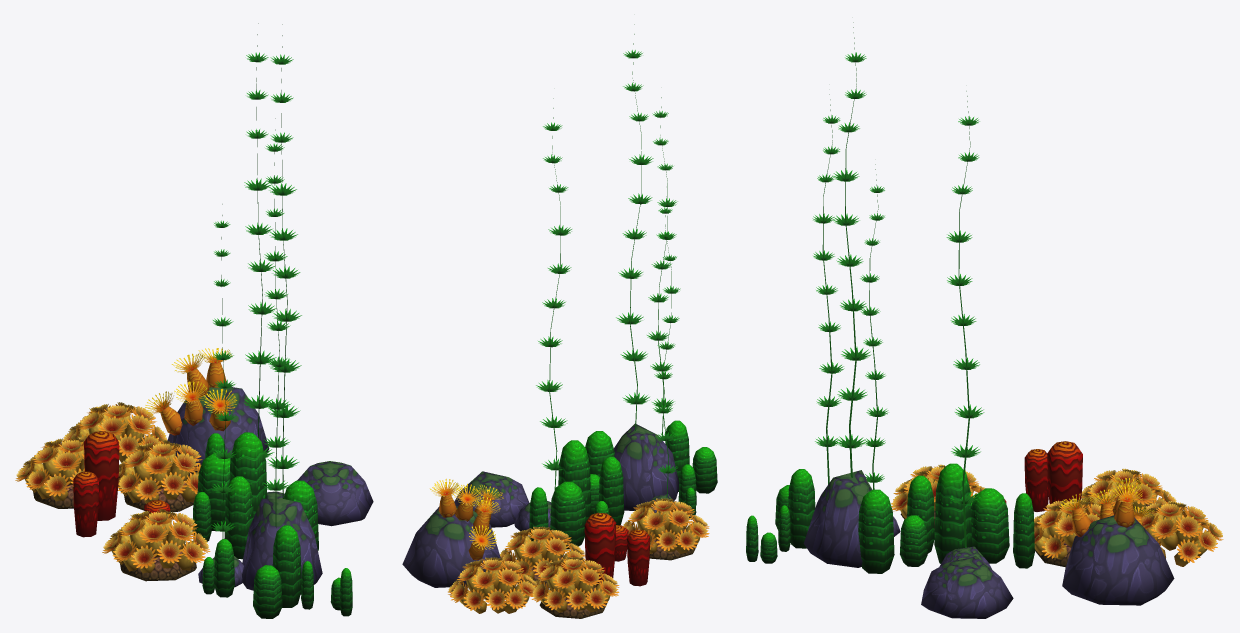
File: CoralSet_09.FBX
The picture shows the model from 3 angles, left to right: view 1: azimuth 30°, elevation 25°; view 2: azimuth 150°, elevation 25°; view 3: azimuth 270°, elevation 25°; orthographic projection. The views are drawn at different scales.
Visible parts, largest first — view 1: CoralSet_09, Line232, Line263, Line261, Line234, Line262, Sphere059, Plane340, Plane339, Plane341, Sphere057, Plane342 (+7 smaller); view 2: CoralSet_09, Line232, Line234, Line262, Line263, Line261, Plane340, Plane339, Sphere059, Plane341, Sphere057, Plane342 (+5 smaller); view 3: CoralSet_09, Line232, Line234, Plane340, Plane339, Line261, Line262, Sphere059, Plane341, Plane342, Sphere057, Line263 (+2 smaller).
Boxes of the visible parts, bbox=[...] form: CoralSet_09: bbox=[167, 387, 373, 618]; Line232: bbox=[192, 432, 318, 559]; Line263: bbox=[102, 508, 210, 573]; Line261: bbox=[118, 440, 202, 503]; Line234: bbox=[61, 402, 167, 462]; Line262: bbox=[15, 436, 84, 501]; Sphere059: bbox=[84, 431, 119, 520]; Plane340: bbox=[267, 24, 301, 498]; Plane339: bbox=[244, 23, 276, 457]; Plane341: bbox=[263, 118, 291, 527]; Sphere057: bbox=[73, 471, 98, 537]; Plane342: bbox=[211, 204, 236, 538]; CoralSet_09: bbox=[402, 420, 717, 587]; Line232: bbox=[529, 431, 624, 549]; Line234: bbox=[448, 557, 536, 613]; Line262: bbox=[531, 556, 619, 612]; Line263: bbox=[623, 498, 709, 553]; Line261: bbox=[499, 526, 585, 581]; Plane340: bbox=[616, 24, 653, 430]; Plane339: bbox=[536, 98, 571, 489]; Sphere059: bbox=[584, 512, 616, 586]; Plane341: bbox=[647, 97, 677, 434]; Sphere057: bbox=[627, 529, 649, 586]; Plane342: bbox=[653, 196, 680, 496]; CoralSet_09: bbox=[746, 469, 1174, 618]; Line232: bbox=[858, 463, 1034, 573]; Line234: bbox=[1140, 501, 1223, 566]; Plane340: bbox=[832, 22, 871, 477]; Plane339: bbox=[946, 91, 984, 547]; Line261: bbox=[1034, 498, 1100, 559]; Line262: bbox=[1081, 468, 1176, 513]; Sphere059: bbox=[1047, 441, 1082, 504]; Plane341: bbox=[812, 94, 844, 484]; Plane342: bbox=[860, 164, 888, 489]; Sphere057: bbox=[1024, 449, 1048, 511]; Line263: bbox=[891, 464, 985, 518].
Size of the model in its own units: 222 by 442 by 354.
